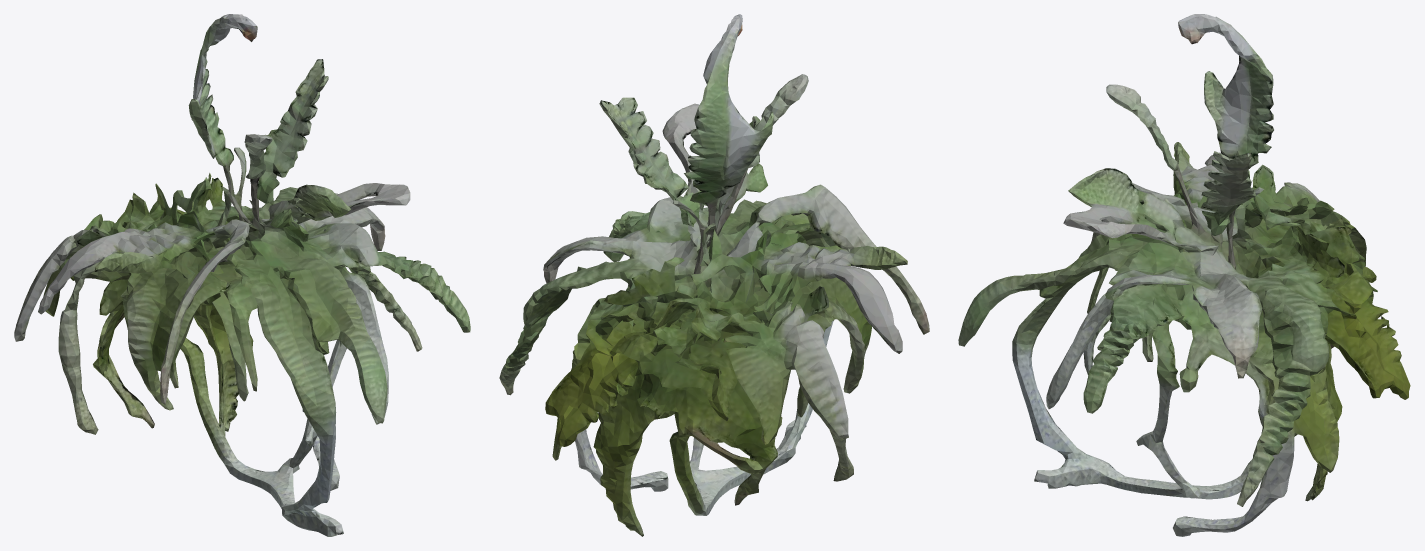
Rendered from ast_12e8c8bee10d.glb.
3 renders of one model, left to right at view 1: azimuth 30°, elevation 25°; view 2: azimuth 150°, elevation 25°; view 3: azimuth 270°, elevation 25°, orthographic. The views are drawn at different scales.
Visible parts, largest first — view 1: geometry_0; view 2: geometry_0; view 3: geometry_0.
Boxes of the visible parts, box(x1,y1,x2,y2) form: geometry_0: box(14, 14, 470, 536); geometry_0: box(499, 14, 929, 536); geometry_0: box(958, 14, 1410, 536).
Bounding box in the file's own units: 0.7703 × 0.9292 × 0.7907.
1 material, 1 textured.
